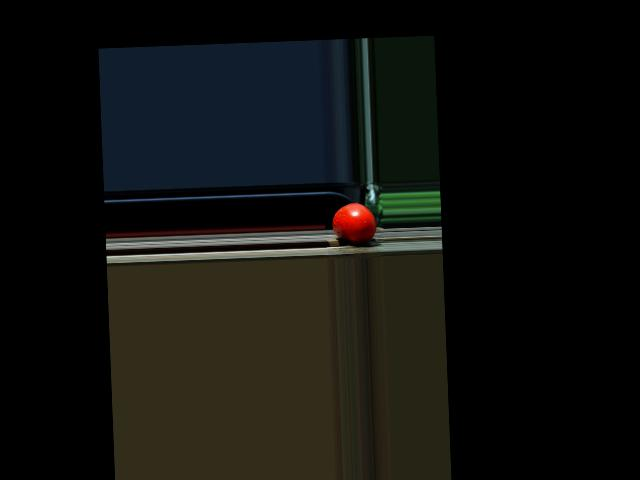tomato: (332, 201, 377, 243)
